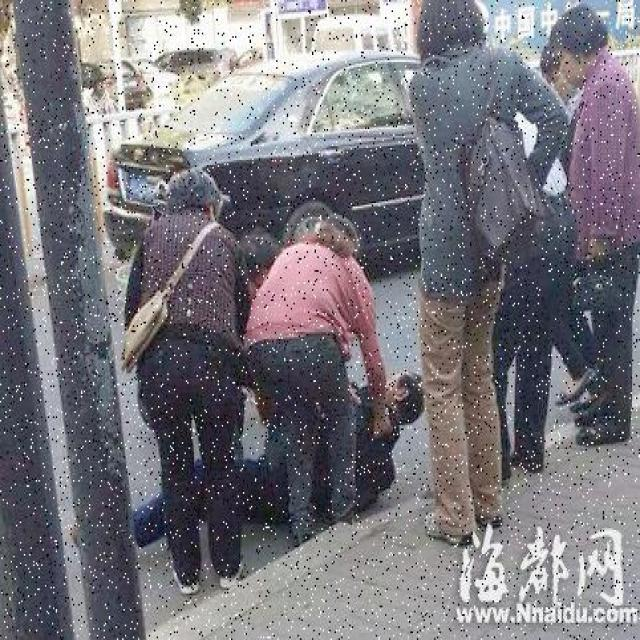fall: (129, 365, 426, 537)
